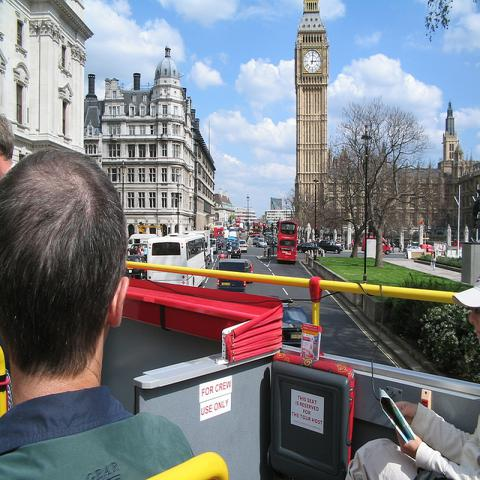bus: (147, 231, 207, 287), (278, 220, 298, 263), (250, 221, 262, 238)
car: (124, 243, 148, 281), (362, 236, 392, 255), (318, 240, 341, 254), (296, 242, 321, 254), (232, 240, 242, 256), (238, 240, 248, 253), (256, 237, 267, 248), (246, 258, 253, 274), (256, 238, 267, 248), (216, 237, 222, 249), (253, 237, 258, 245), (242, 228, 246, 232)
truck: (217, 262, 246, 293), (130, 244, 148, 255), (210, 236, 219, 254)
